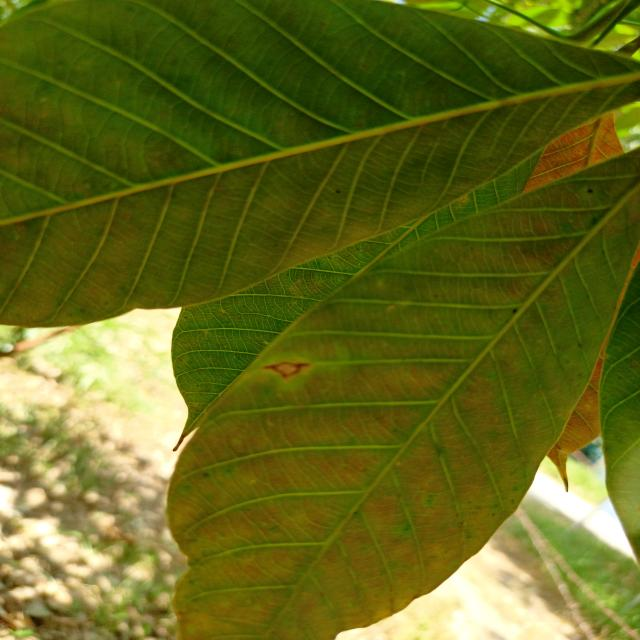Colletotrichum: (586, 188, 594, 194)
Corynespora: (260, 360, 312, 379)
